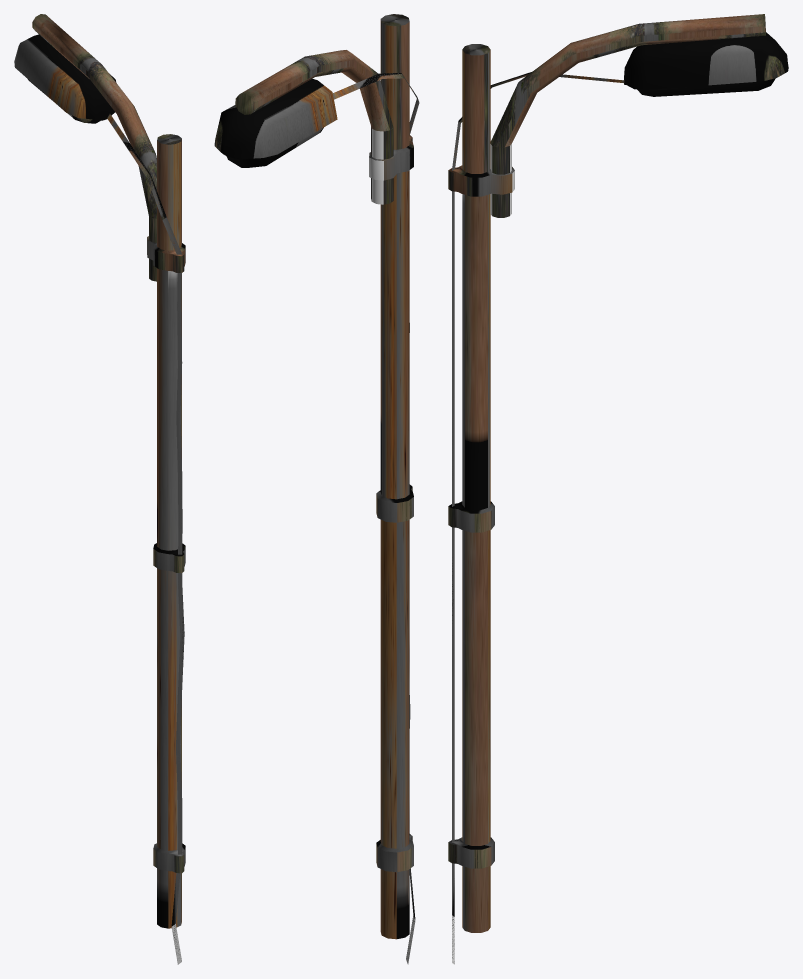
The model's file is Luces_Calle.fbx.
The picture shows the model from 3 angles, left to right: view 1: azimuth 30°, elevation 25°; view 2: azimuth 150°, elevation 25°; view 3: azimuth 270°, elevation 25°; orthographic projection. The views are drawn at different scales.
Visible parts, largest first — view 1: STREET_LIGHT_2; view 2: STREET_LIGHT_2; view 3: STREET_LIGHT_2.
Boxes of the visible parts, x1=… form: STREET_LIGHT_2: x1=14, y1=14, x2=185, y2=964; STREET_LIGHT_2: x1=214, y1=14, x2=419, y2=964; STREET_LIGHT_2: x1=448, y1=14, x2=788, y2=964.
Bounding box in the file's own units: 0.2416 × 3.66 × 1.19.
